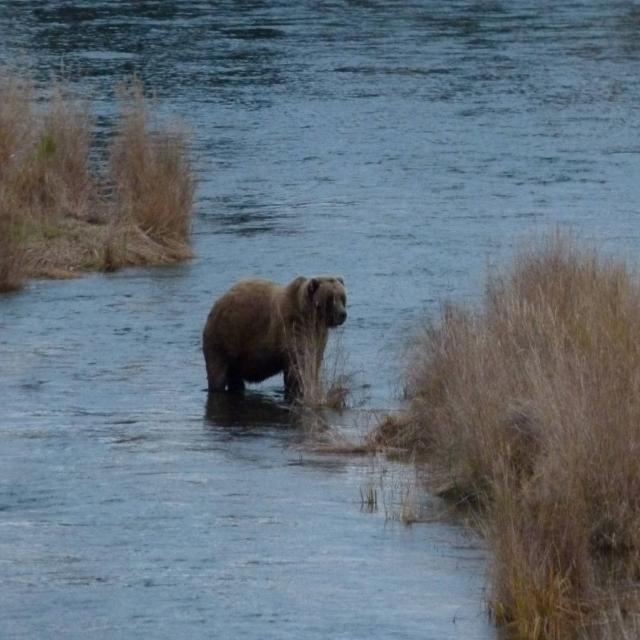bear face: (203, 277, 348, 405)
